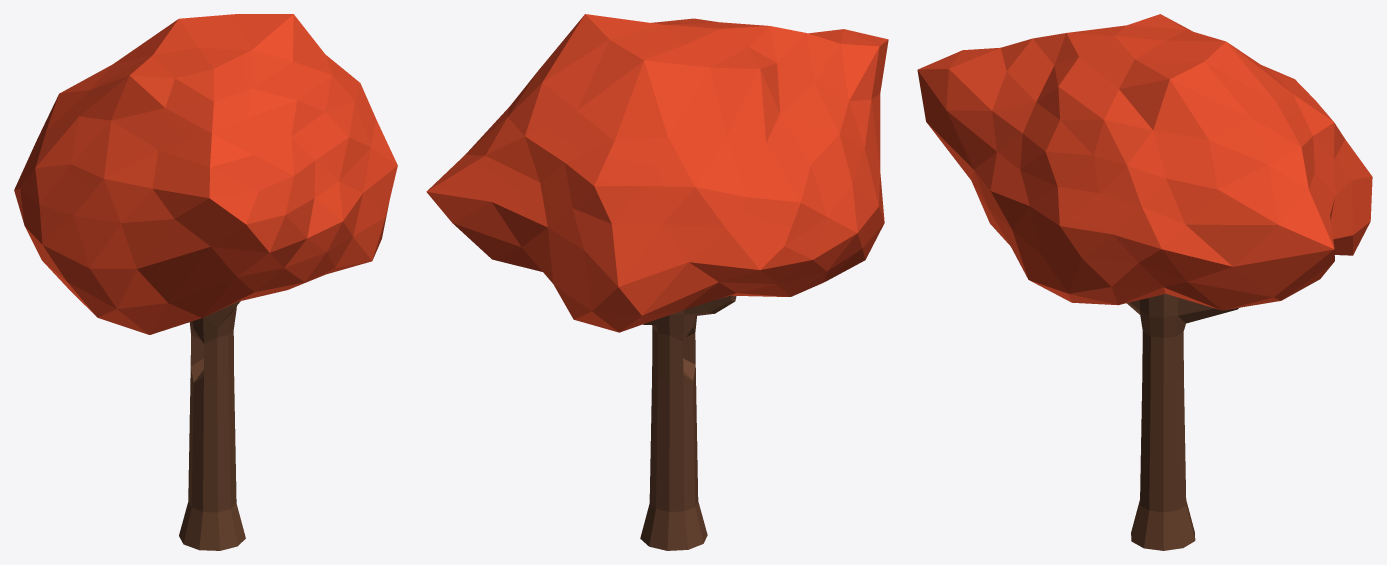
Rendered from Natures2t3-orange.fbx.
3 views of the same model, side by side, from view 1: azimuth 30°, elevation 25°; view 2: azimuth 150°, elevation 25°; view 3: azimuth 270°, elevation 25° (orthographic).
Visible parts, largest first — view 1: t3-orange; view 2: t3-orange; view 3: t3-orange.
Boxes of the visible parts, box(x1,y1,x2,y2) form: t3-orange: box(14, 14, 397, 550); t3-orange: box(426, 14, 888, 550); t3-orange: box(917, 14, 1372, 550).
Size of the model in its own units: 651 by 923 by 764.
